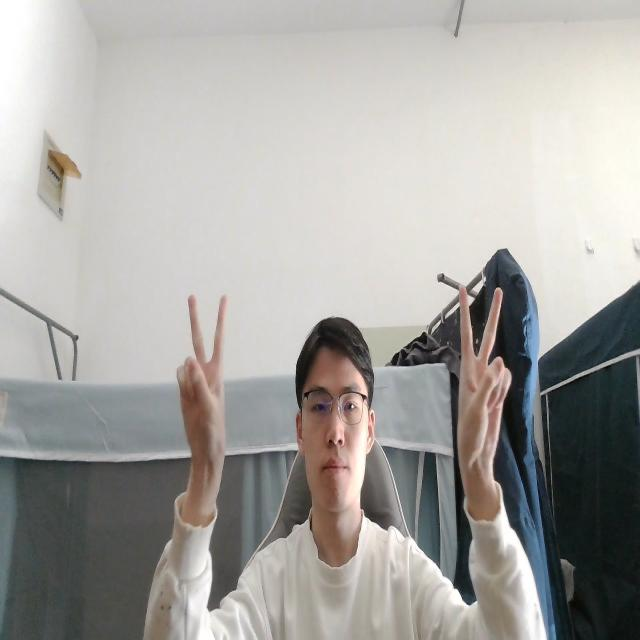yes: (452, 276, 512, 499), (171, 283, 230, 503)
